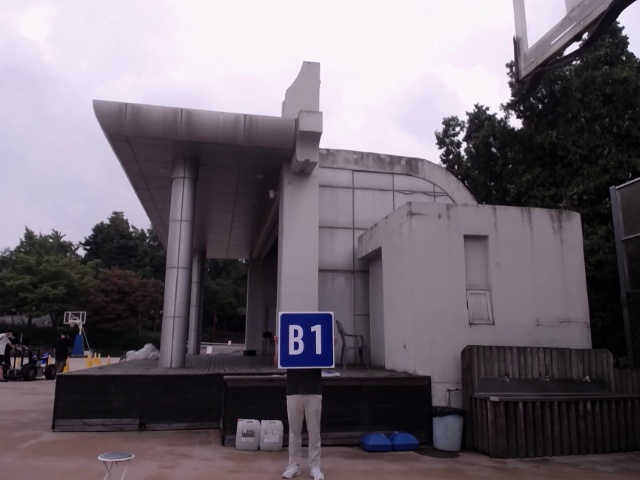delivery_b1: (279, 312, 334, 368)
